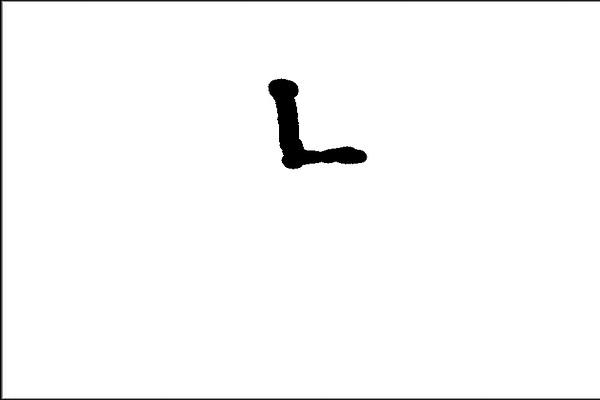L: (261, 68, 375, 175)
